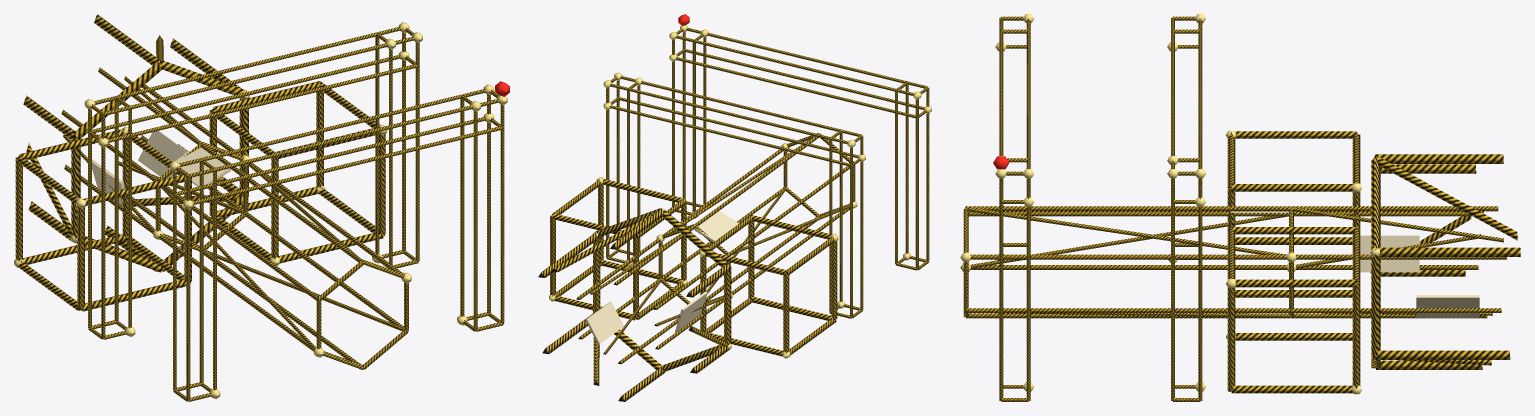
File: manufacturing_center_build1_debris2.obj
The picture shows the model from 3 angles, left to right: view 1: azimuth 30°, elevation 25°; view 2: azimuth 150°, elevation 25°; view 3: azimuth 270°, elevation 25°; orthographic projection. The views are drawn at different scales.
Parts seen in each view (by area): view 1: girder, post, brace, plate, work_light; view 2: girder, post, brace, plate, work_light; view 3: girder, post, brace, plate, work_light.
Part boxes in pixels (box(x1,y1,x2,y2)): girder: box(15, 26, 504, 401); post: box(23, 14, 408, 369); brace: box(26, 35, 403, 349); plate: box(92, 130, 230, 205); work_light: box(14, 22, 507, 399); girder: box(550, 27, 929, 372); post: box(538, 133, 853, 401); brace: box(551, 137, 849, 385); plate: box(585, 210, 738, 344); work_light: box(549, 25, 931, 358); girder: box(963, 16, 1380, 401); post: box(966, 154, 1520, 369); brace: box(969, 156, 1517, 365); plate: box(1230, 211, 1479, 317); work_light: box(960, 14, 1380, 394).
Bounding box in the file's own units: 96.73 × 81.69 × 144.
Materials: 5 (1 with a texture image).
